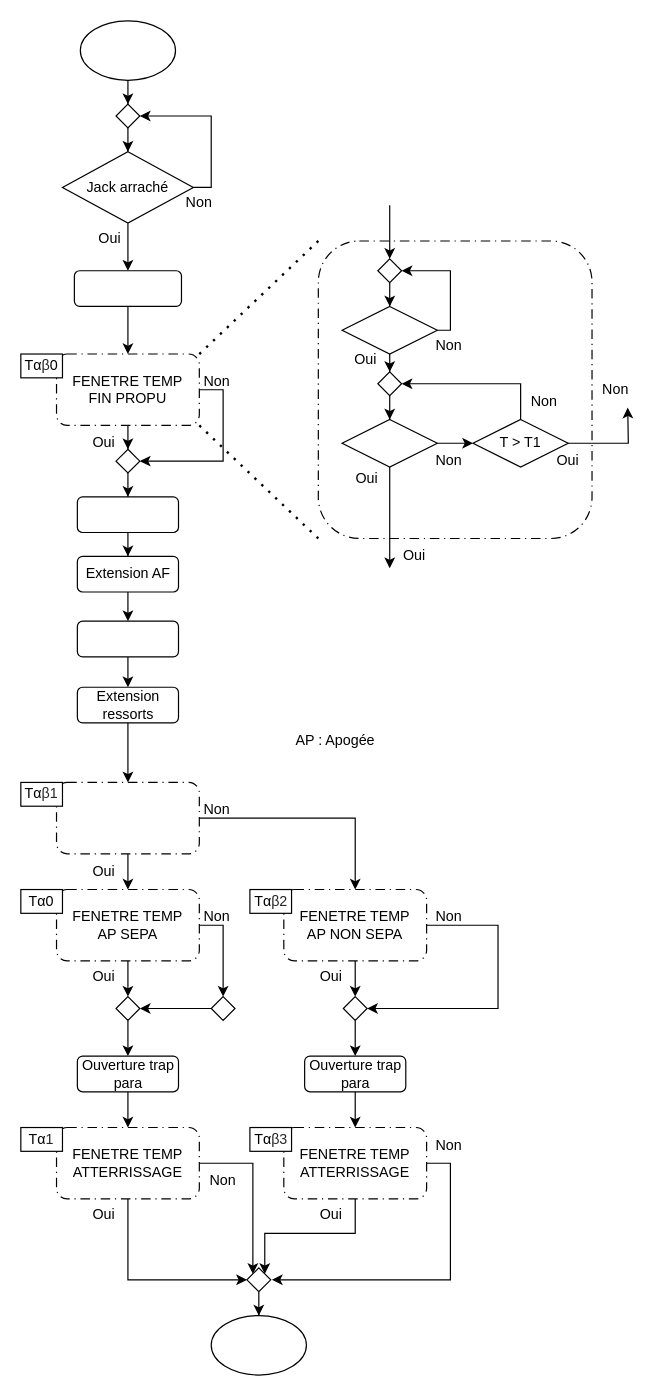
The diagram is 672 pixels wide and 1396 high, and some of its shapes have lost their labels. Each missing label, with the centre of its shape:
"Attente T_AF" belongs at point (127, 638).
"Début" belongs at point (127, 50).
"Démarrer timer" belongs at point (127, 288).
"Détection" belongs at point (389, 442).
"FENETRE TEMP SEPARATION" belongs at point (127, 817).
"FIN" belongs at point (258, 1344).
"Séparation étage" belongs at point (127, 514).
"T > T0" belongs at point (389, 329).
